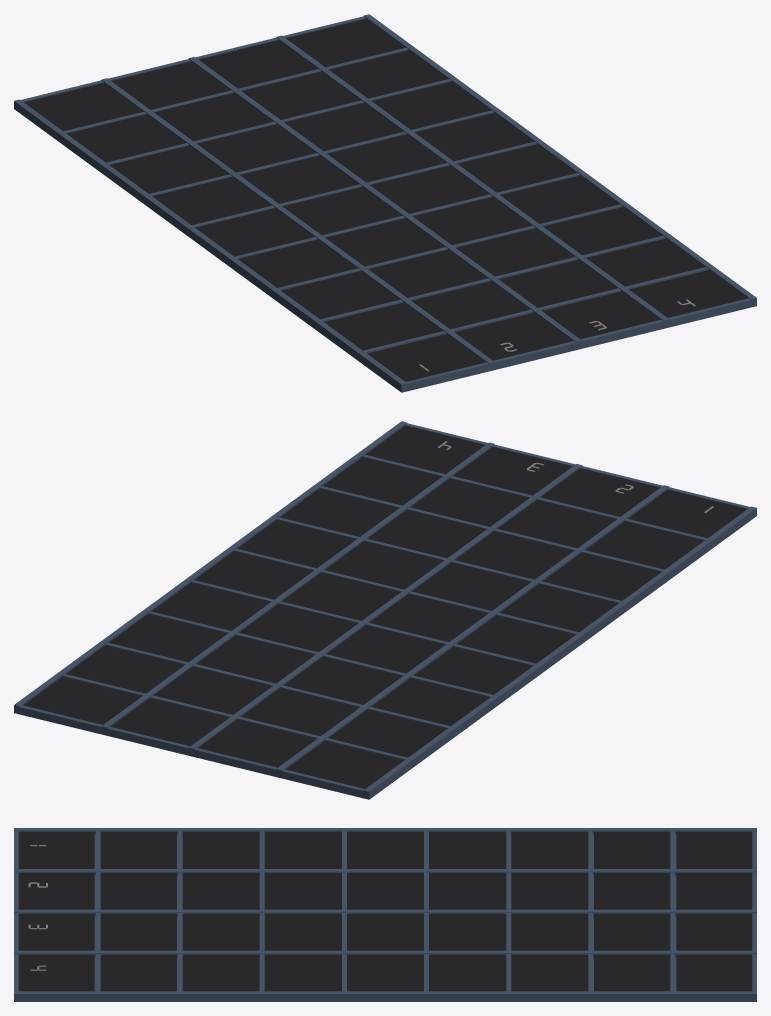
File: rs50s_panel.obj
3 renders of one model, top to bottom at view 1: azimuth 30°, elevation 25°; view 2: azimuth 150°, elevation 25°; view 3: azimuth 270°, elevation 25°, orthographic. The views are drawn at different scales.
Parts seen in each view (by area): view 1: rs50s_panel; view 2: rs50s_panel; view 3: rs50s_panel.
Boxes of the visible parts, bbox=[...] form: rs50s_panel: bbox=[14, 14, 756, 392]; rs50s_panel: bbox=[14, 421, 756, 799]; rs50s_panel: bbox=[14, 828, 756, 1001].
Bounding box in the file's own units: 5 × 0.11 × 9.45.
